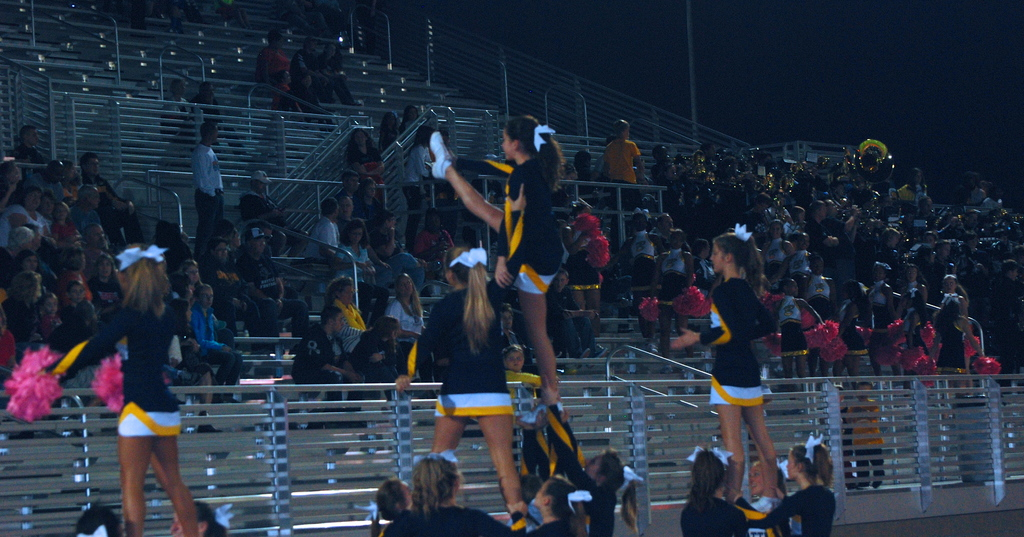Person: (0, 0, 1023, 429), (370, 113, 636, 537), (35, 244, 225, 536), (684, 224, 839, 537)
